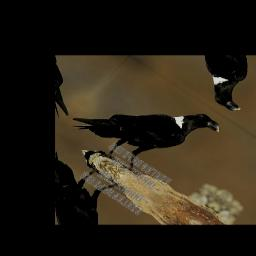Crow: (60, 62, 225, 195)
